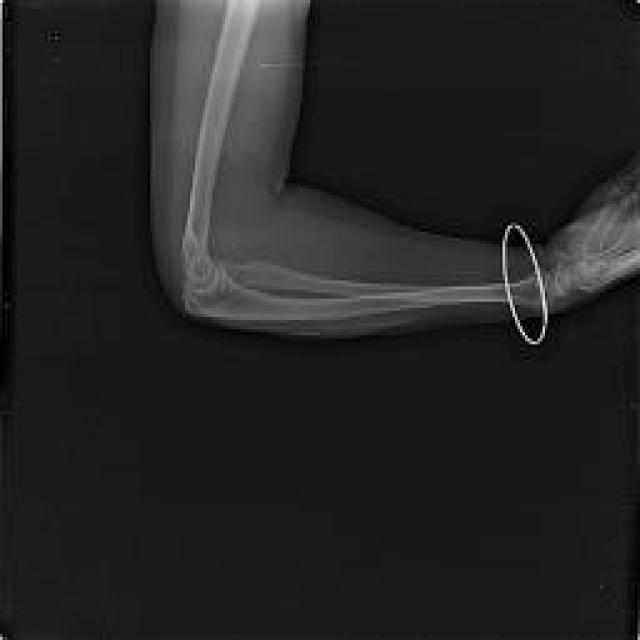normal: (179, 0, 640, 321)
